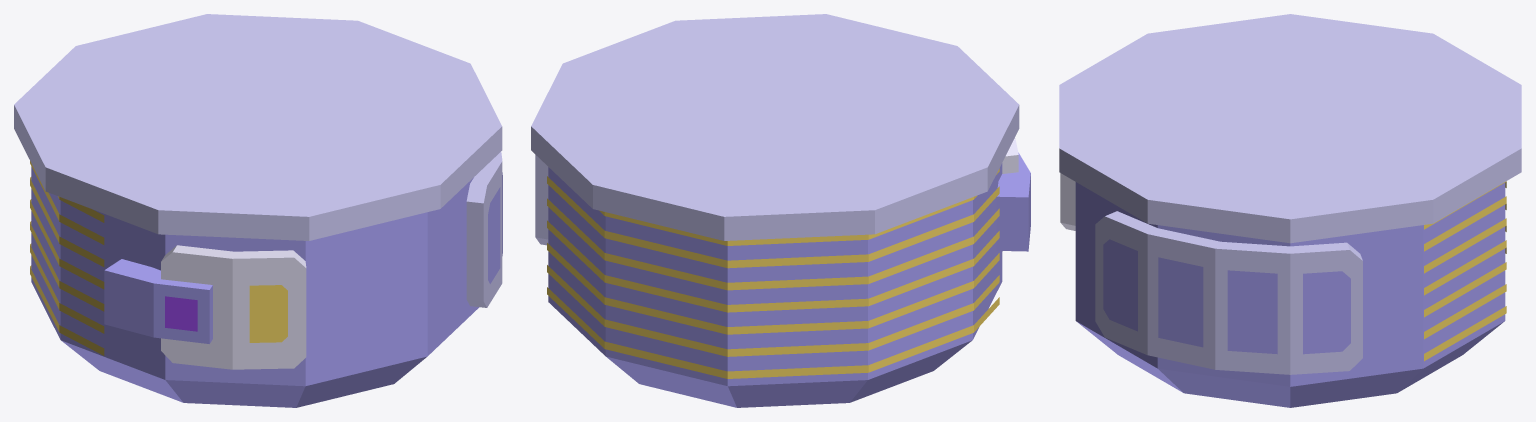
The model's file is Building_018_c.fbx.
3 renders of one model, left to right at view 1: azimuth 30°, elevation 25°; view 2: azimuth 150°, elevation 25°; view 3: azimuth 270°, elevation 25°, orthographic.
Parts seen in each view (by area): view 1: Building_018_c; view 2: Building_018_c; view 3: Building_018_c.
Part boxes in pixels (x1,y1,x2,y2): Building_018_c: [14, 14, 502, 407]; Building_018_c: [531, 14, 1030, 407]; Building_018_c: [1059, 14, 1521, 407].
Bounding box in the file's own units: 7.47 × 3.64 × 7.1.
